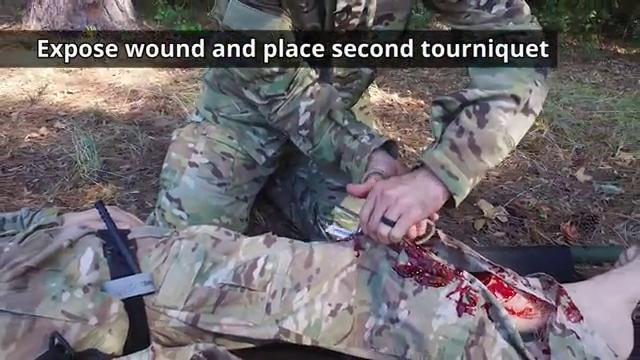scissors: (351, 167, 435, 247)
